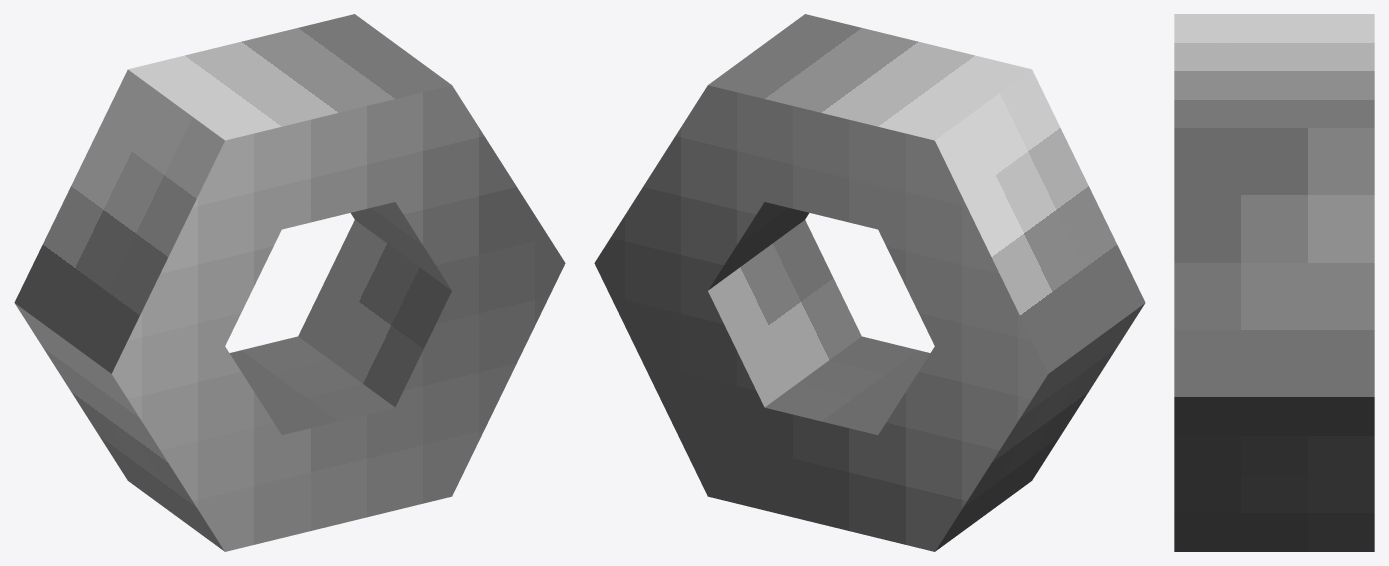
Rendered from coletavelPORCA.gltf.
3 renders of one model, left to right at view 1: azimuth 30°, elevation 25°; view 2: azimuth 150°, elevation 25°; view 3: azimuth 270°, elevation 25°, orthographic. The views are drawn at different scales.
Visible parts, largest first — view 1: cylinder; view 2: cylinder; view 3: cylinder.
Part boxes in pixels (x1,y1,x2,y2): cylinder: (14,14,565,551); cylinder: (594,14,1145,551); cylinder: (1174,14,1374,551).
Bounding box in the file's own units: 0.5052 × 0.4375 × 0.1875.
1 material, 1 textured.
